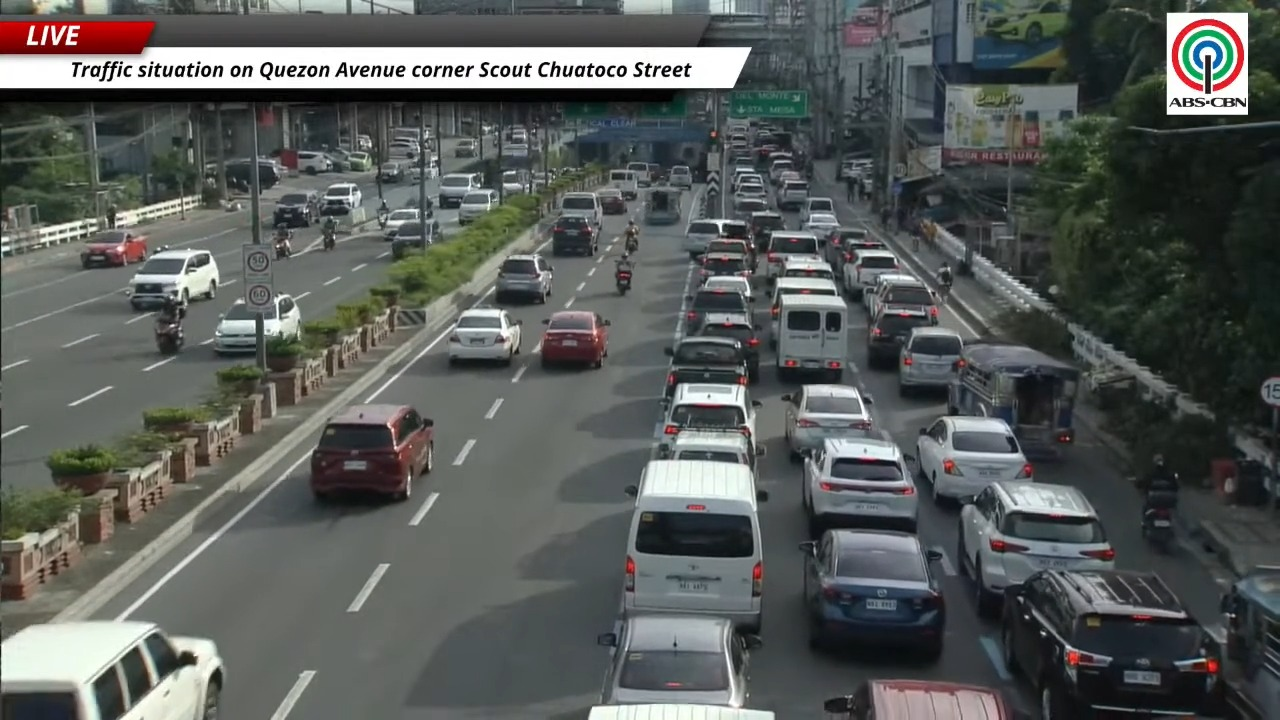car: (1001, 570, 1223, 719), (0, 621, 224, 719), (957, 481, 1114, 616), (800, 529, 945, 659), (597, 614, 760, 707), (309, 404, 434, 501), (803, 437, 918, 537), (916, 416, 1033, 501), (823, 680, 1031, 719), (780, 384, 873, 461), (661, 383, 761, 450), (128, 249, 219, 309), (212, 293, 301, 353), (664, 335, 747, 399), (898, 327, 963, 395), (698, 313, 761, 382), (448, 307, 521, 364), (663, 429, 764, 470), (866, 307, 932, 368), (541, 311, 610, 368), (983, 0, 1067, 44), (872, 278, 938, 324), (684, 288, 750, 334), (764, 230, 821, 283), (842, 249, 900, 300), (494, 253, 553, 303), (80, 229, 147, 268), (862, 272, 918, 317), (827, 225, 884, 268), (391, 218, 443, 259), (551, 215, 598, 256), (682, 218, 723, 259), (272, 192, 319, 227), (706, 237, 755, 270), (457, 188, 499, 225), (699, 252, 750, 282), (438, 173, 481, 208), (560, 192, 604, 226), (780, 256, 835, 283), (748, 211, 785, 251), (702, 275, 754, 302), (321, 183, 361, 214), (383, 208, 419, 240), (733, 192, 768, 220), (802, 212, 839, 237), (297, 151, 333, 174), (800, 197, 834, 221), (409, 154, 438, 182), (596, 188, 627, 214), (500, 170, 530, 196), (732, 166, 763, 191), (625, 162, 653, 187), (718, 219, 749, 240), (378, 161, 405, 182), (775, 170, 802, 191), (668, 166, 692, 188), (347, 150, 372, 171), (454, 139, 479, 158), (648, 163, 662, 183), (403, 194, 420, 209)
motorcycle: (1141, 489, 1177, 553), (1142, 507, 1174, 553), (155, 323, 183, 355), (615, 269, 631, 295), (274, 238, 291, 259), (322, 229, 335, 250), (625, 234, 638, 253), (377, 211, 388, 229)
